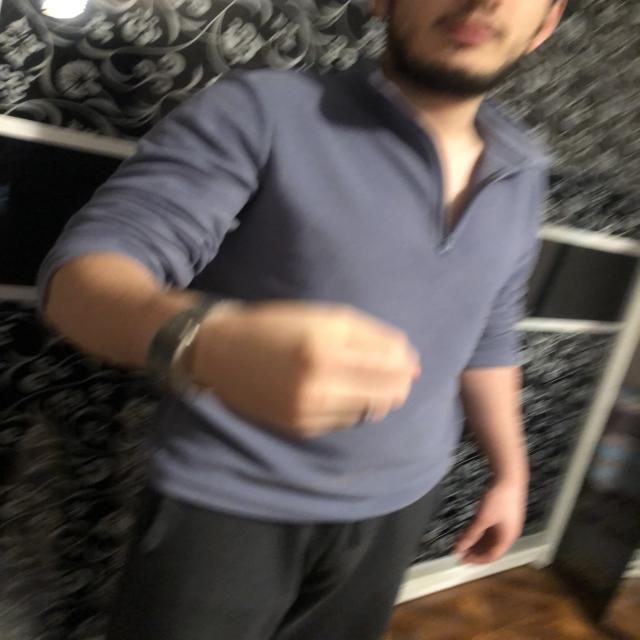rock: (231, 307, 416, 440)
